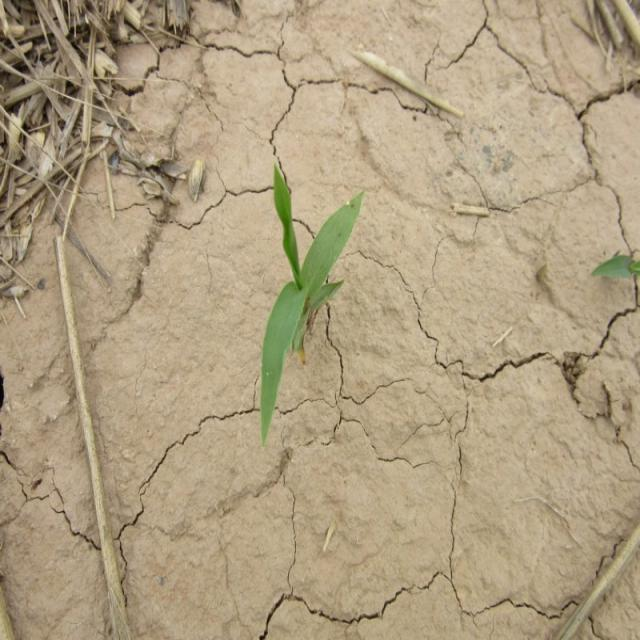bg: (257, 163, 358, 455)
